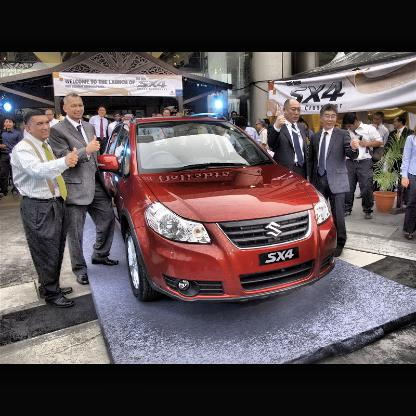Suzuki SX4 Hatchback 2012: (98, 114, 338, 309)
